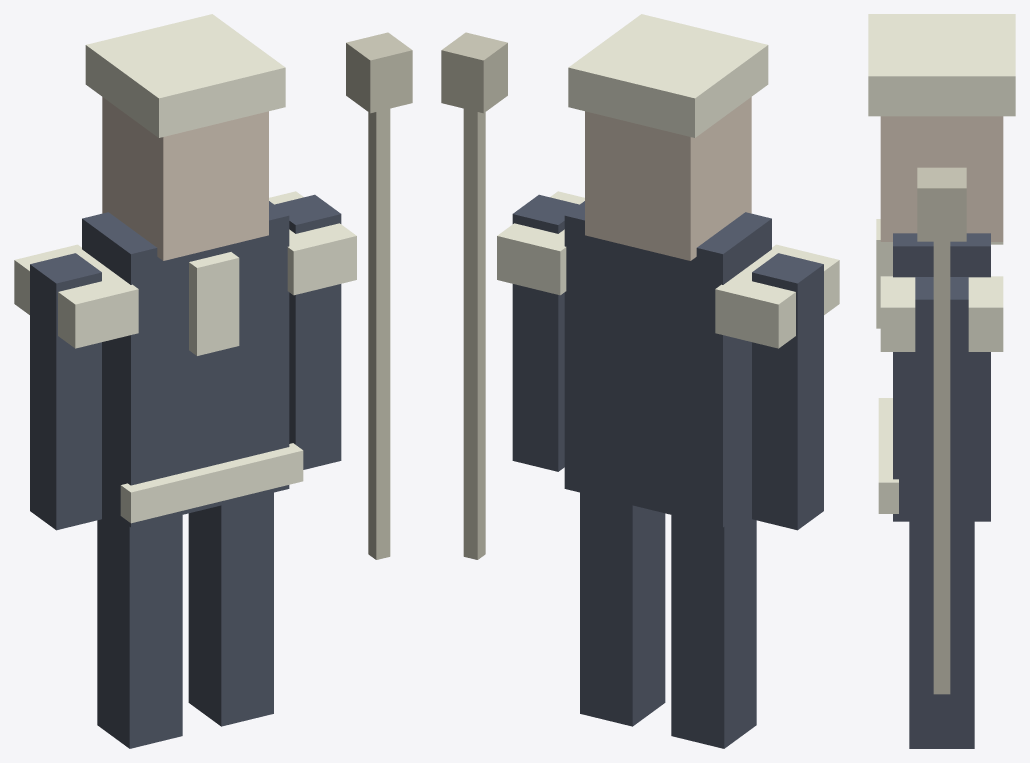
Rendered from 10_ilyra_signalborn_herald_from_central.glb.
The picture shows the model from 3 angles, left to right: view 1: azimuth 30°, elevation 25°; view 2: azimuth 150°, elevation 25°; view 3: azimuth 270°, elevation 25°; orthographic projection.
Parts seen in each view (by area): view 1: Ilyra Signalborn, Herald from Central; view 2: Ilyra Signalborn, Herald from Central; view 3: Ilyra Signalborn, Herald from Central.
Boxes of the visible parts, x1,y1,x2,y2 form: Ilyra Signalborn, Herald from Central: (14, 14, 412, 748); Ilyra Signalborn, Herald from Central: (441, 14, 839, 748); Ilyra Signalborn, Herald from Central: (868, 14, 1015, 748).
Size of the model in its own units: 0.9535 by 1.69 by 0.3382.
